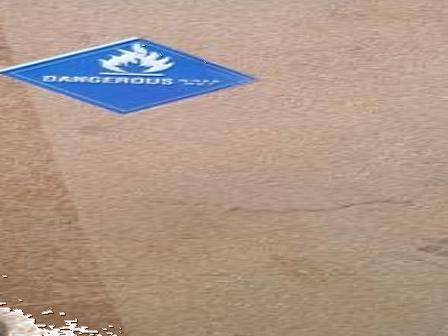dangerous-when-wet: (1, 38, 266, 114)
